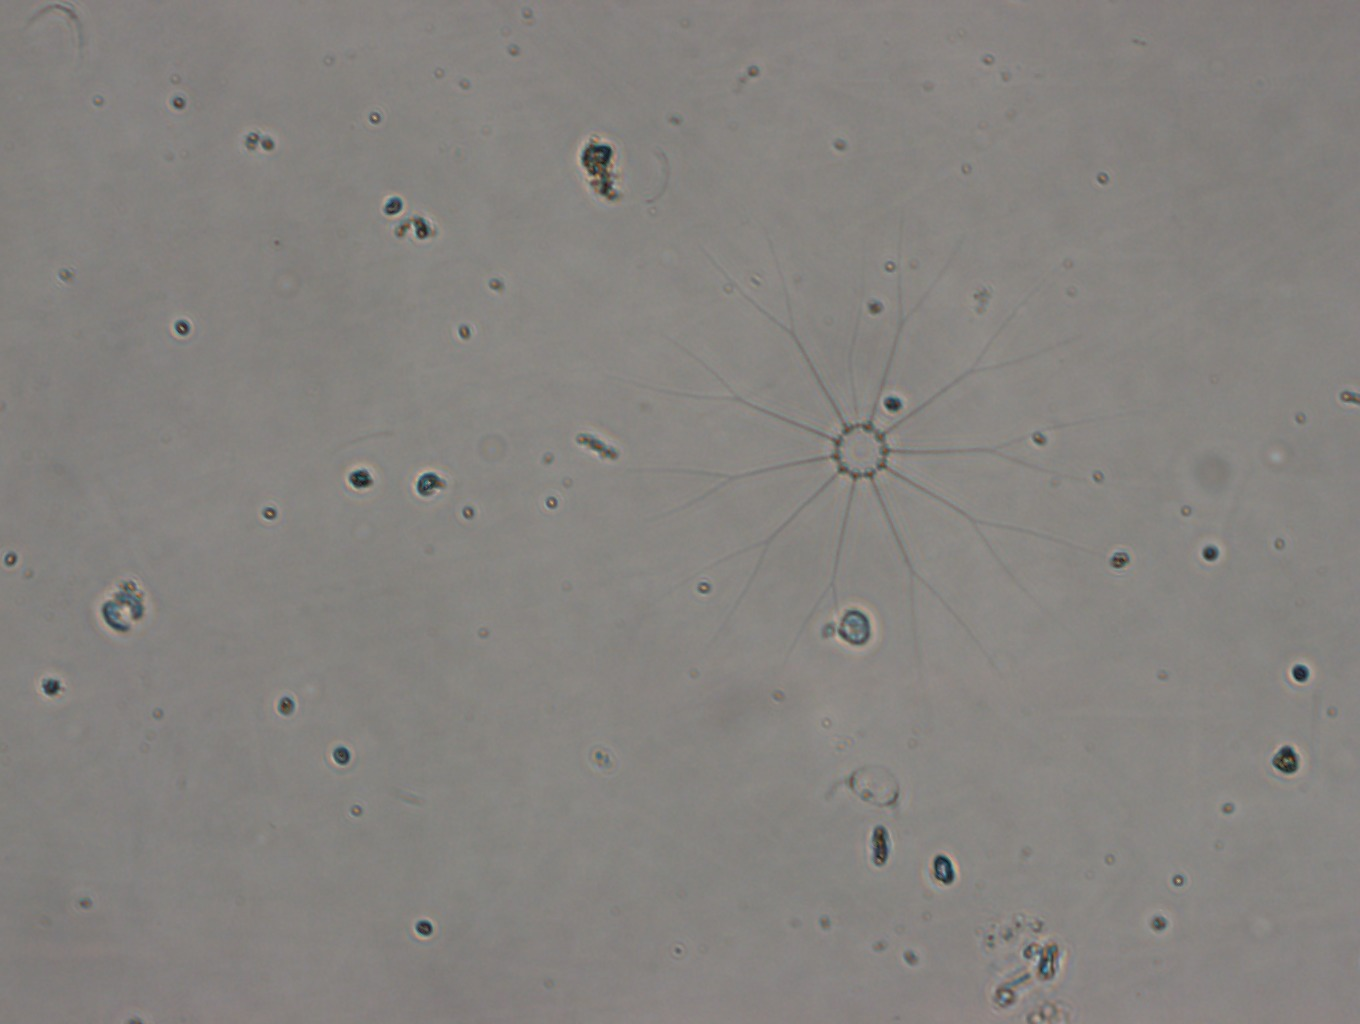bacteriastrum: (630, 219, 1114, 684)
